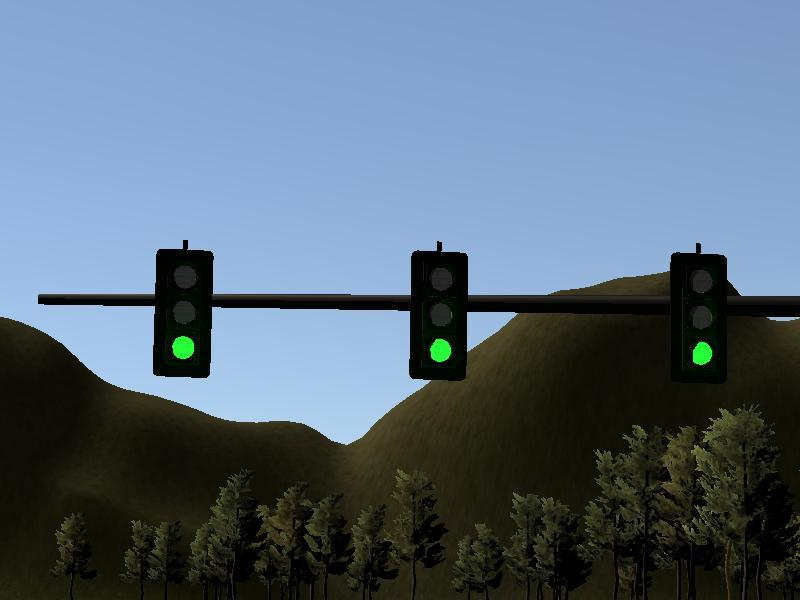Green: (673, 257, 729, 377), (411, 253, 465, 377), (156, 251, 209, 373)
